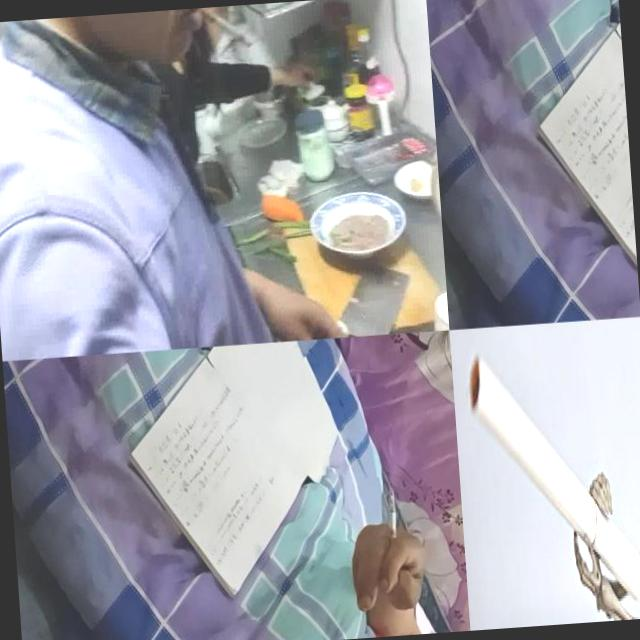smoke: (464, 339, 640, 614), (195, 4, 252, 51), (387, 489, 399, 551)
